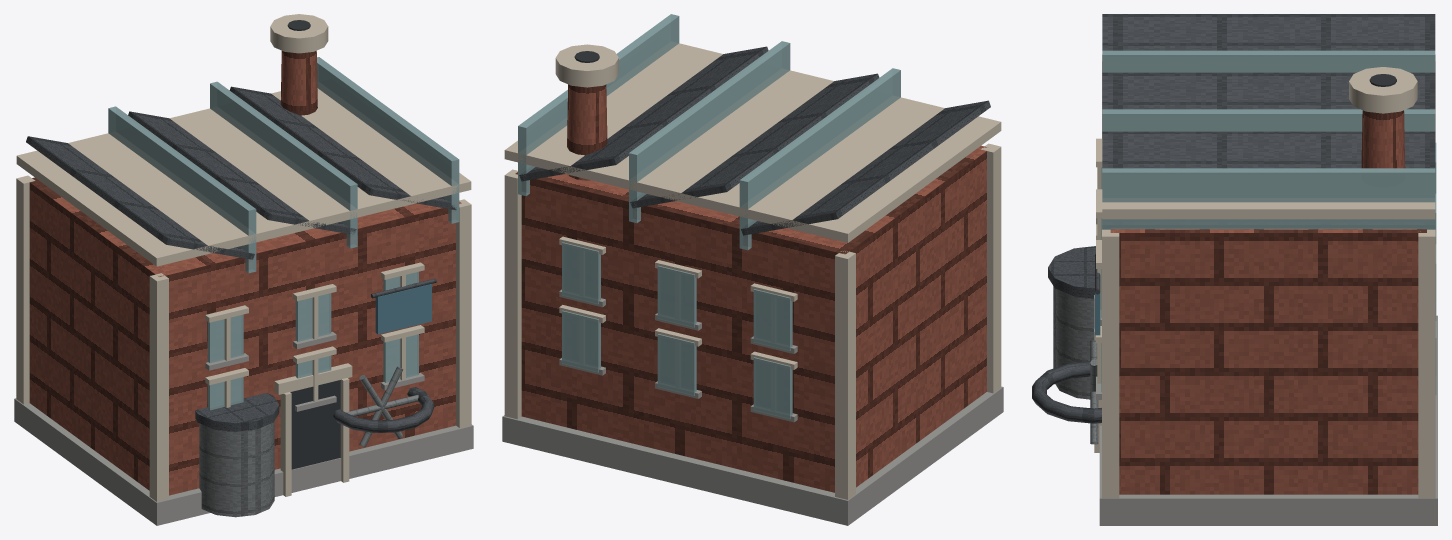
The model's file is procedural_master_workshop@5.glb.
The picture shows the model from 3 angles, left to right: view 1: azimuth 30°, elevation 25°; view 2: azimuth 150°, elevation 25°; view 3: azimuth 270°, elevation 25°; orthographic projection. The views are drawn at different scales.
Parts seen in each view (by area): view 1: part_1, part_2, part_4, part_5, part_0, part_6, part_3, part_7; view 2: part_1, part_2, part_4, part_0, part_5; view 3: part_1, part_5, part_4, part_2, part_0, part_6.
Boxes of the visible parts, x1,y1,x2,y2 form: part_1: [29, 51, 461, 495]; part_2: [16, 14, 471, 501]; part_4: [108, 57, 459, 410]; part_5: [26, 86, 456, 433]; part_0: [14, 332, 473, 525]; part_6: [199, 366, 418, 517]; part_3: [287, 20, 340, 469]; part_7: [375, 284, 431, 334]; part_1: [515, 84, 986, 492]; part_2: [504, 43, 1001, 499]; part_4: [518, 14, 900, 419]; part_0: [502, 289, 1003, 525]; part_5: [519, 46, 990, 235]; part_1: [1110, 110, 1426, 494]; part_5: [1032, 14, 1435, 423]; part_4: [1101, 50, 1436, 394]; part_2: [1094, 54, 1435, 498]; part_0: [1096, 218, 1437, 525]; part_6: [1053, 286, 1098, 444].
Size of the model in its own units: 7.95 by 8.4 by 7.44.
Materials: 8 (3 with a texture image).
